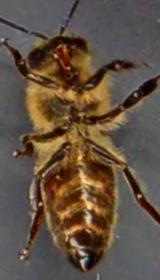varroa_mite: (30, 162, 72, 198)
